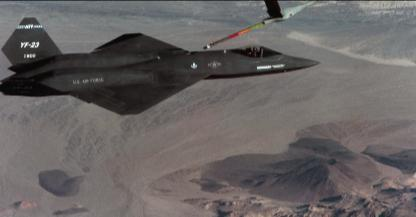US2: (0, 17, 321, 115)
